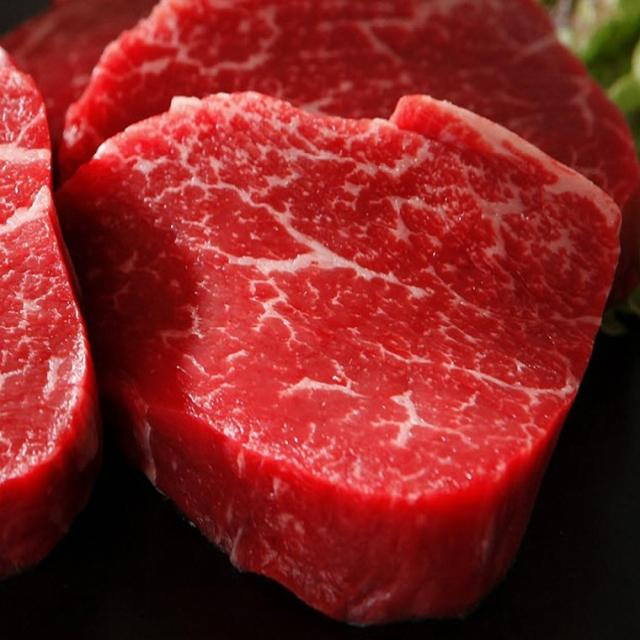beef: (199, 169, 512, 479)
